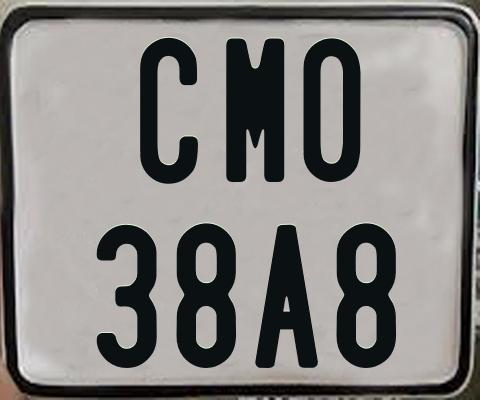0: (301, 38, 361, 184)
3: (95, 222, 155, 371)
8: (334, 220, 395, 369), (174, 222, 235, 370)
A: (254, 222, 321, 369)
C: (137, 38, 197, 186)
M: (224, 36, 282, 181)
